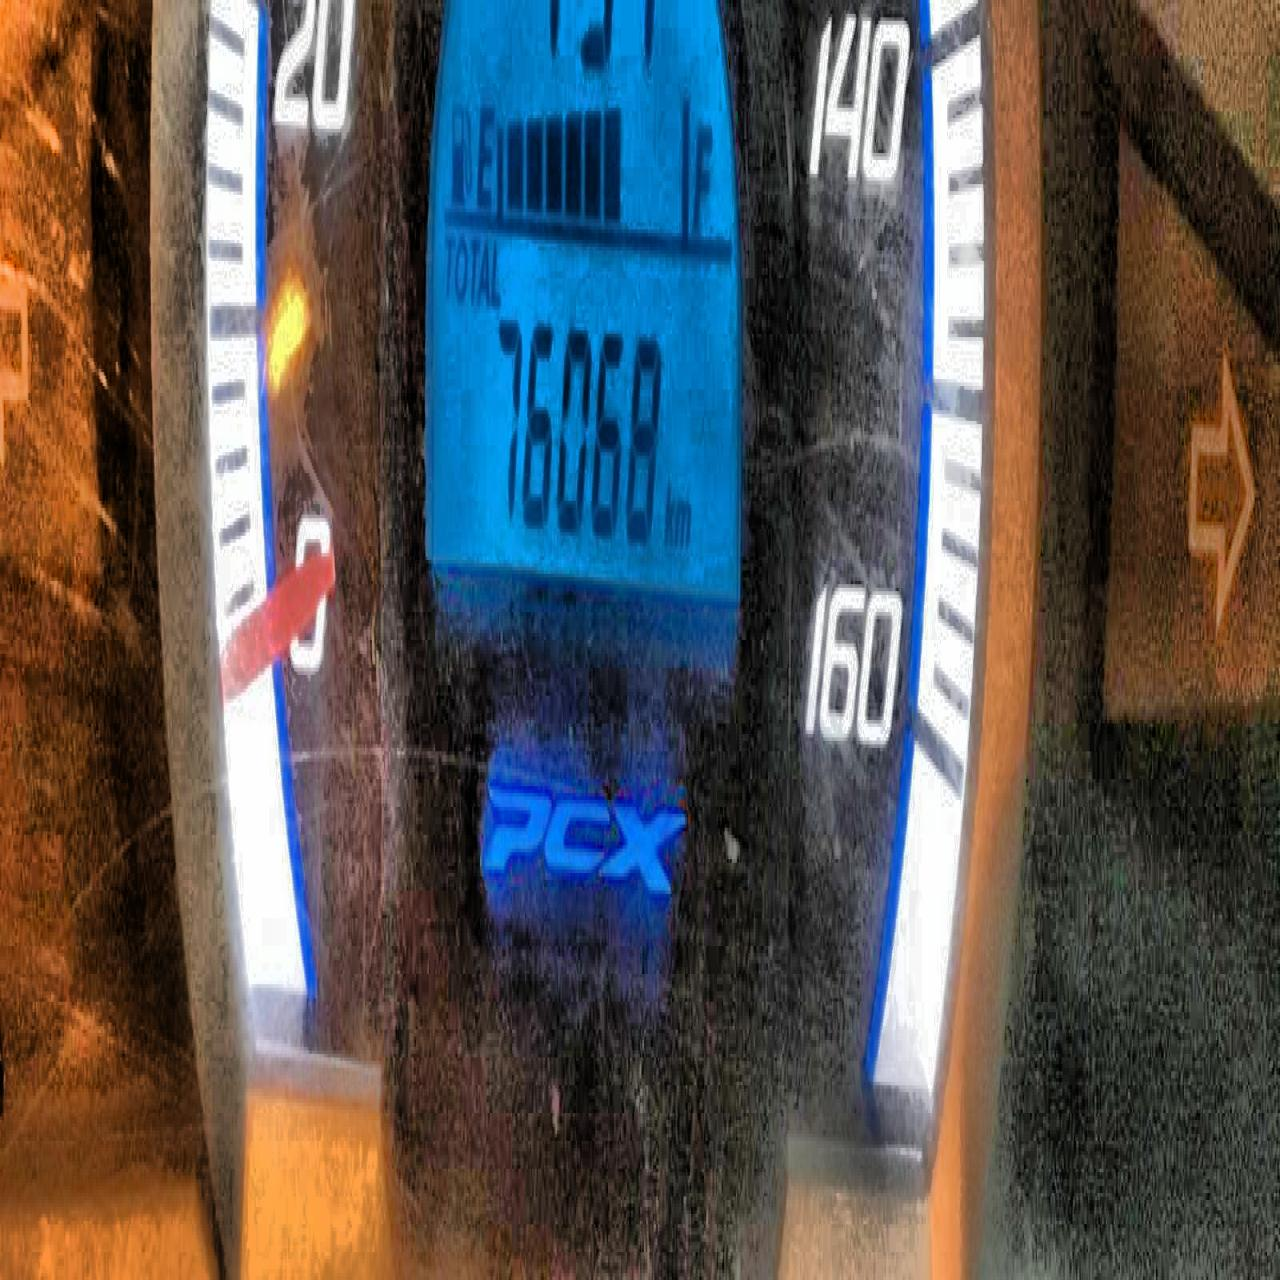0: (554, 316, 590, 539)
6: (592, 320, 621, 543), (523, 316, 551, 525)
7: (496, 302, 523, 515)
8: (626, 306, 659, 550)
X: (692, 118, 715, 230), (476, 87, 495, 216), (675, 483, 690, 560), (663, 474, 678, 557), (443, 216, 454, 302), (469, 226, 479, 302), (490, 237, 501, 309), (455, 230, 465, 302), (479, 237, 488, 313)
odometer: (413, 0, 757, 636)
